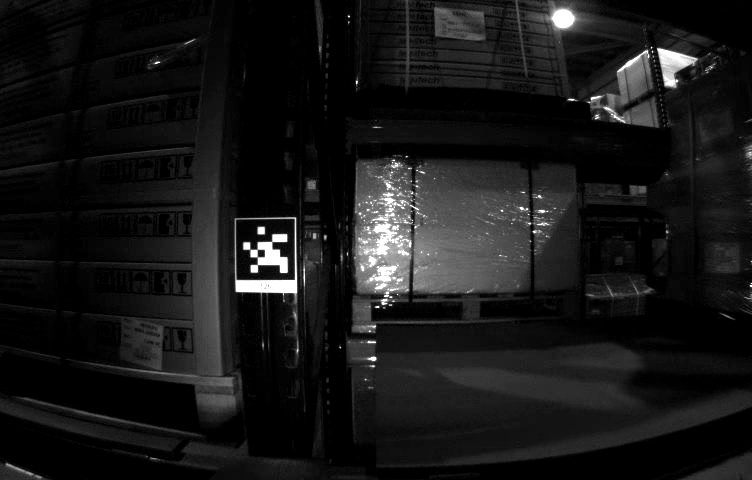True Barcode: (121, 317, 164, 368)
